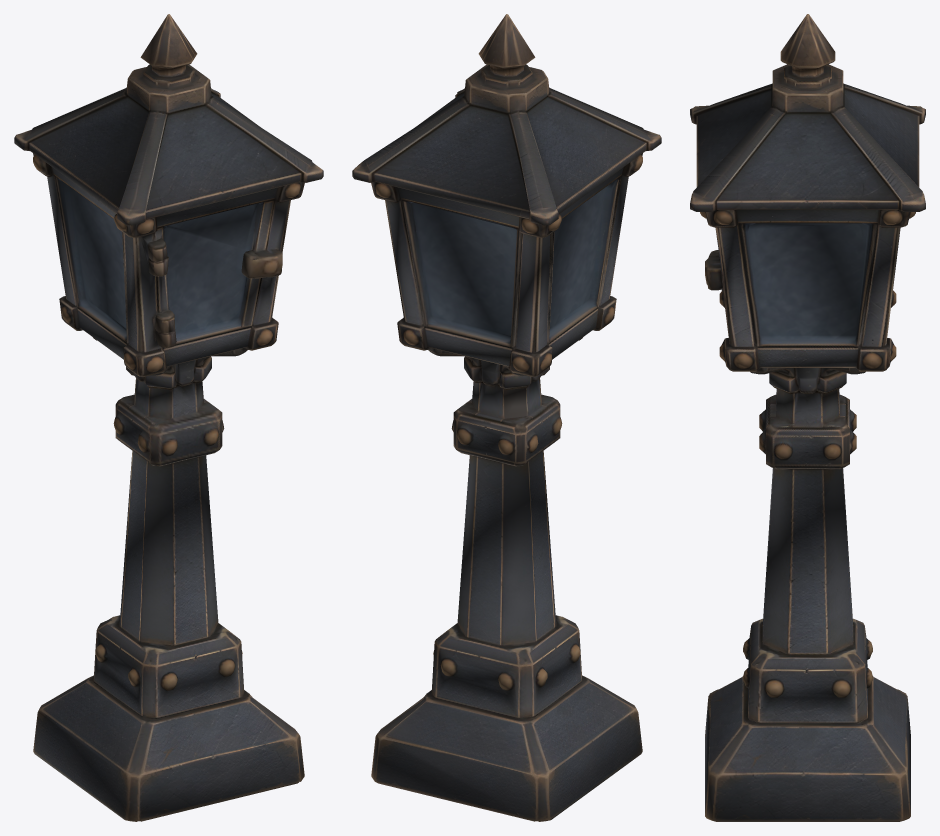
The model's file is decor-lantern-tripo-26bb832e-smartuv-tex2k-pbr.glb.
3 views of the same model, side by side, from view 1: azimuth 30°, elevation 25°; view 2: azimuth 150°, elevation 25°; view 3: azimuth 270°, elevation 25° (orthographic).
Visible parts, largest first — view 1: tripo_node_03ed779d-3ca8-4ced-b078-b2c2287e118e; view 2: tripo_node_03ed779d-3ca8-4ced-b078-b2c2287e118e; view 3: tripo_node_03ed779d-3ca8-4ced-b078-b2c2287e118e.
Part boxes in pixels (left/top/right/bottom): tripo_node_03ed779d-3ca8-4ced-b078-b2c2287e118e: left=14, top=14, right=323, bottom=821; tripo_node_03ed779d-3ca8-4ced-b078-b2c2287e118e: left=352, top=14, right=661, bottom=821; tripo_node_03ed779d-3ca8-4ced-b078-b2c2287e118e: left=690, top=14, right=925, bottom=821.
Bounding box in the file's own units: 0.2699 × 0.9782 × 0.2737.
Materials: 1 (1 with a texture image).
